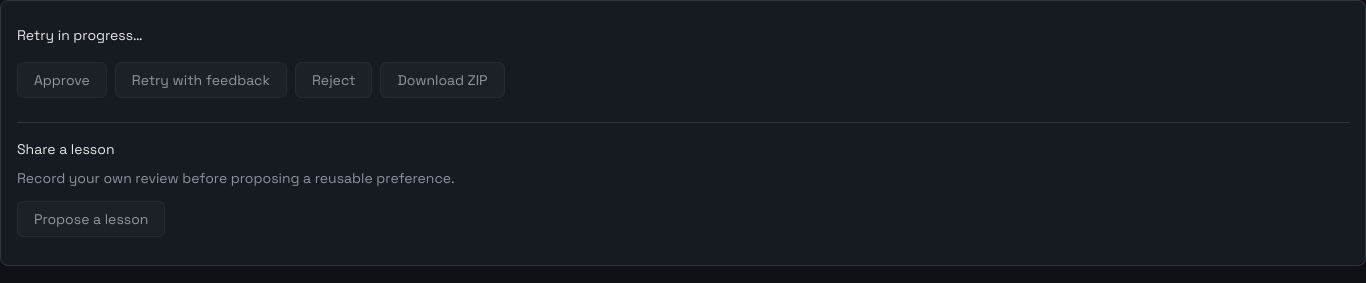
Scenario: FR-UI-07 retained retry lock explains unavailable Reject
Hover over the element "Reject".
mouse_move(334, 80)  # box [295, 62, 372, 98]
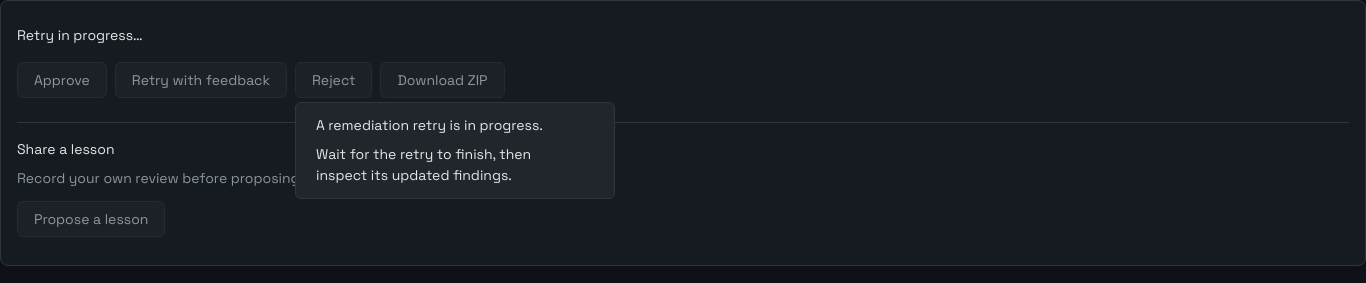
expect the element with class "action-gate-help" is shown: met, box [295, 102, 615, 199]
Move the pointer off the element "Reject", box [295, 62, 372, 98]
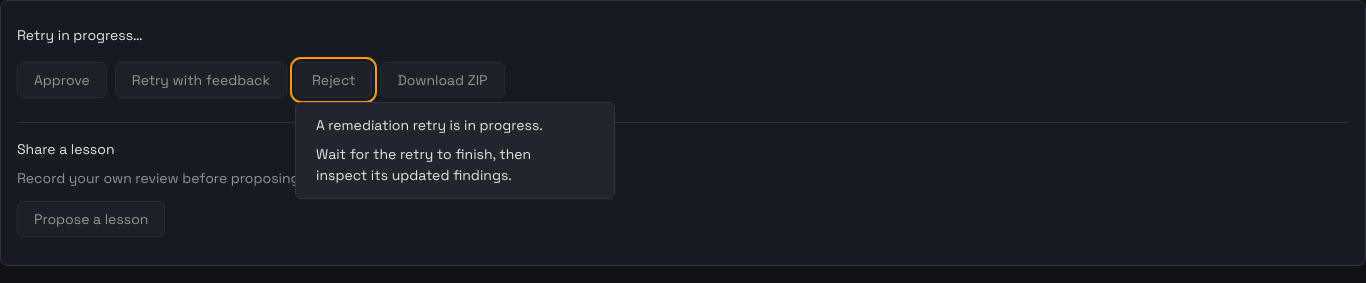
expect the element with class "action-gate-help" is shown: met, box [295, 102, 615, 199]
Press Escape in the element "Reject", box [295, 62, 372, 98]
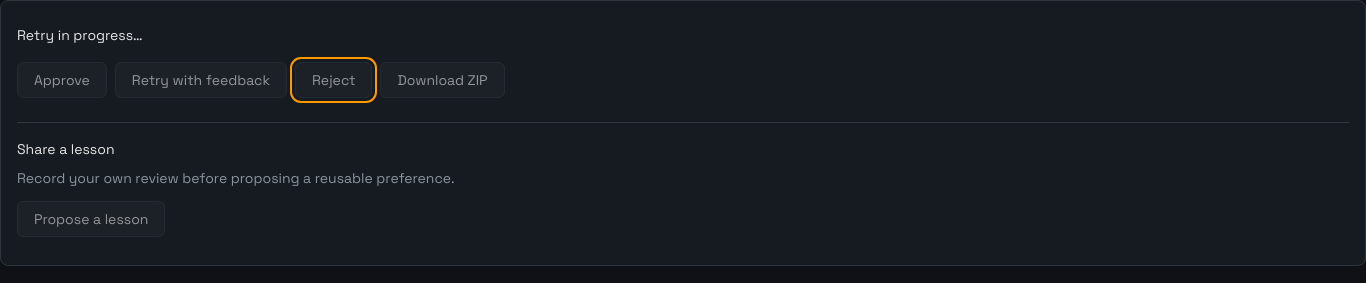
Click the element "Reject".
click(334, 80)  # box [295, 62, 372, 98]
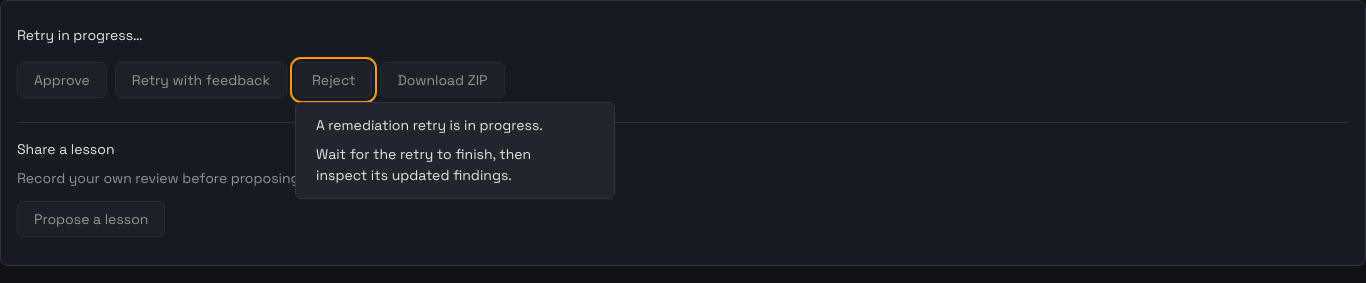
expect the element with class "action-gate-help" is shown: met, box [295, 102, 615, 199]
